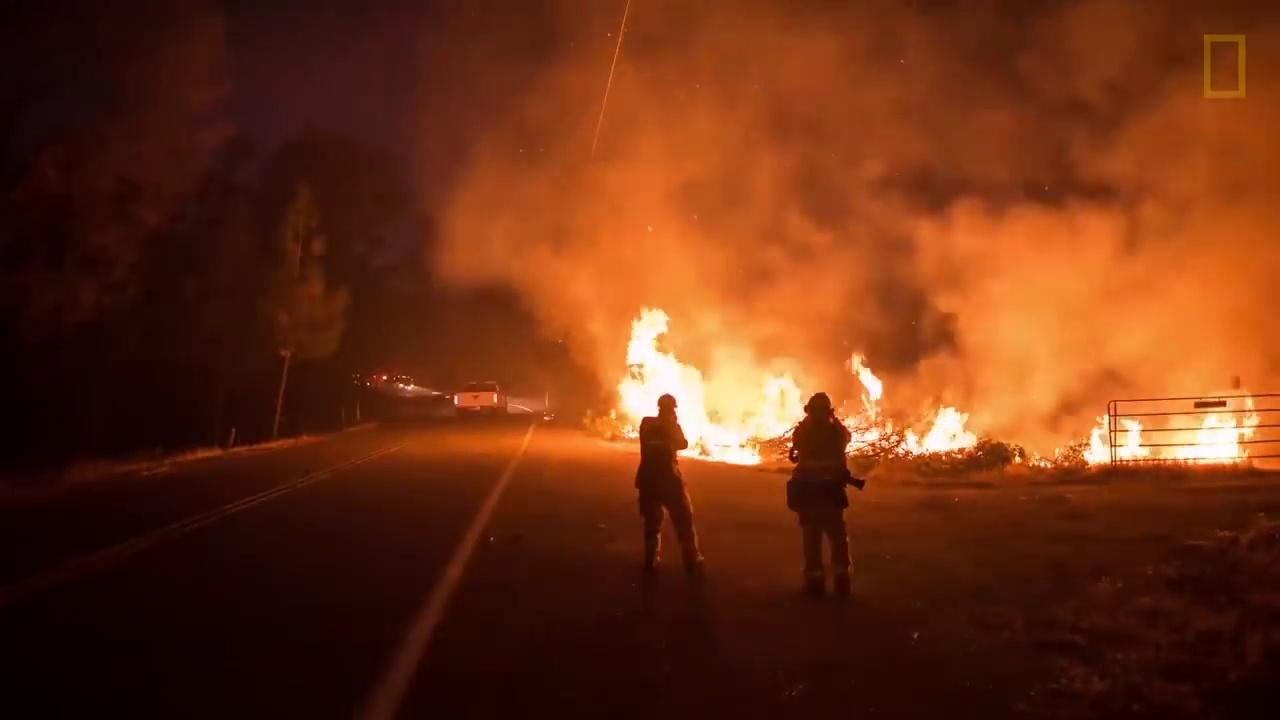Fire: (608, 306, 801, 465), (836, 353, 981, 454), (1077, 388, 1260, 466)
